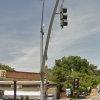Tree: (52, 46, 100, 100)
